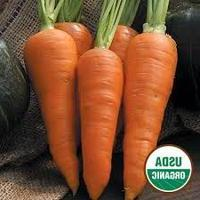biodegradable: (23, 29, 79, 200), (126, 31, 178, 200), (76, 46, 125, 200)
